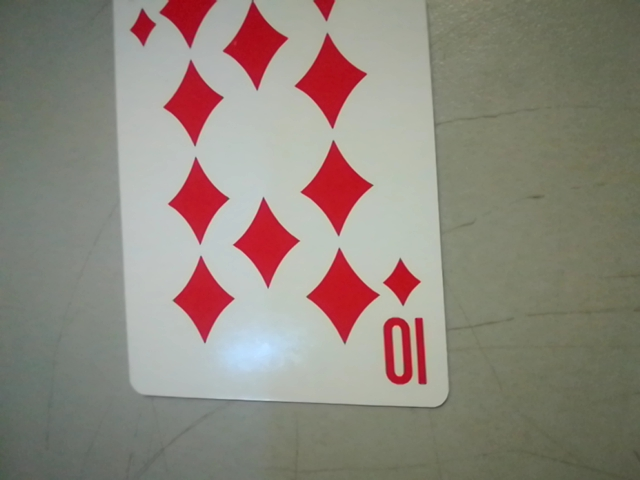fk 10: (371, 255, 441, 398)
